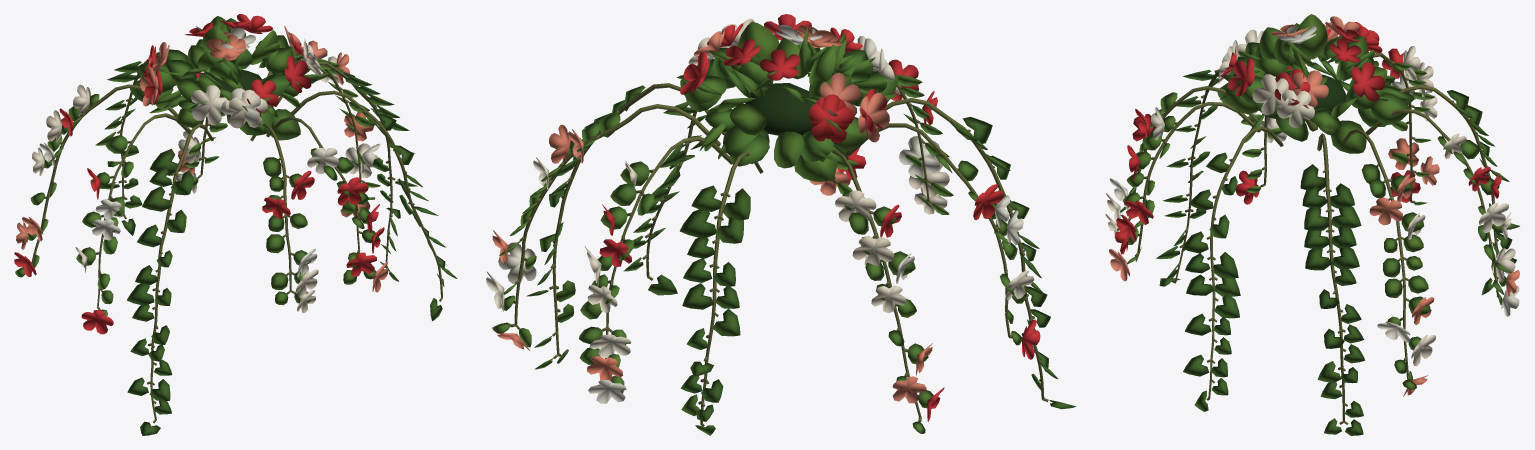
The model's file is basket_trailing_red.glb.
3 views of the same model, side by side, from view 1: azimuth 30°, elevation 25°; view 2: azimuth 150°, elevation 25°; view 3: azimuth 270°, elevation 25° (orthographic). The views are drawn at different scales.
Visible parts, largest first — view 1: Sammel Pflanze, Sammel Putz; view 2: Sammel Pflanze, Sammel Putz, Sammel Blatt; view 3: Sammel Pflanze, Sammel Putz, Sammel Blatt.
Boxes of the visible parts, x1,y1,x2,y2 form: Sammel Pflanze: (14,14,457,435); Sammel Putz: (31,52,442,423); Sammel Pflanze: (486,14,1076,435); Sammel Putz: (510,83,1048,426); Sammel Blatt: (745,83,812,135); Sammel Pflanze: (1105,14,1519,435); Sammel Putz: (1128,52,1499,424); Sammel Blatt: (1314,74,1346,111).
Size of the model in its own units: 0.7627 by 0.6334 by 0.7019.
